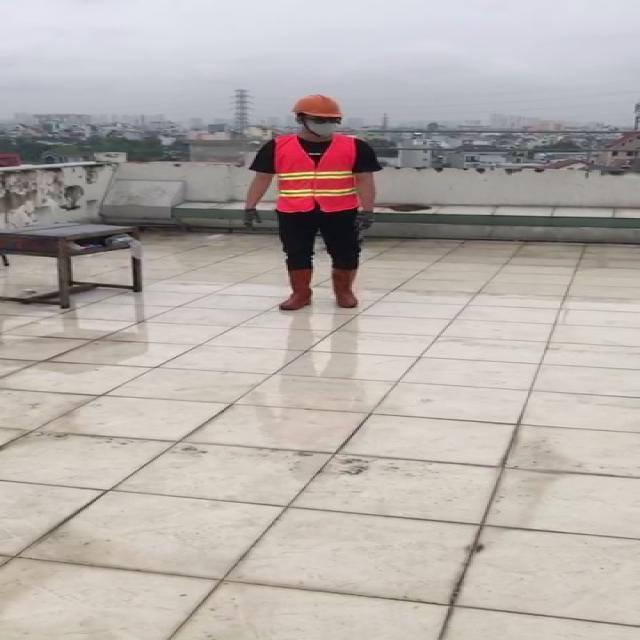gloves: (353, 211, 374, 232), (243, 208, 261, 232)
goggles: (308, 118, 341, 126)
helmet: (291, 93, 346, 117)
safety_vest: (277, 135, 357, 210)
